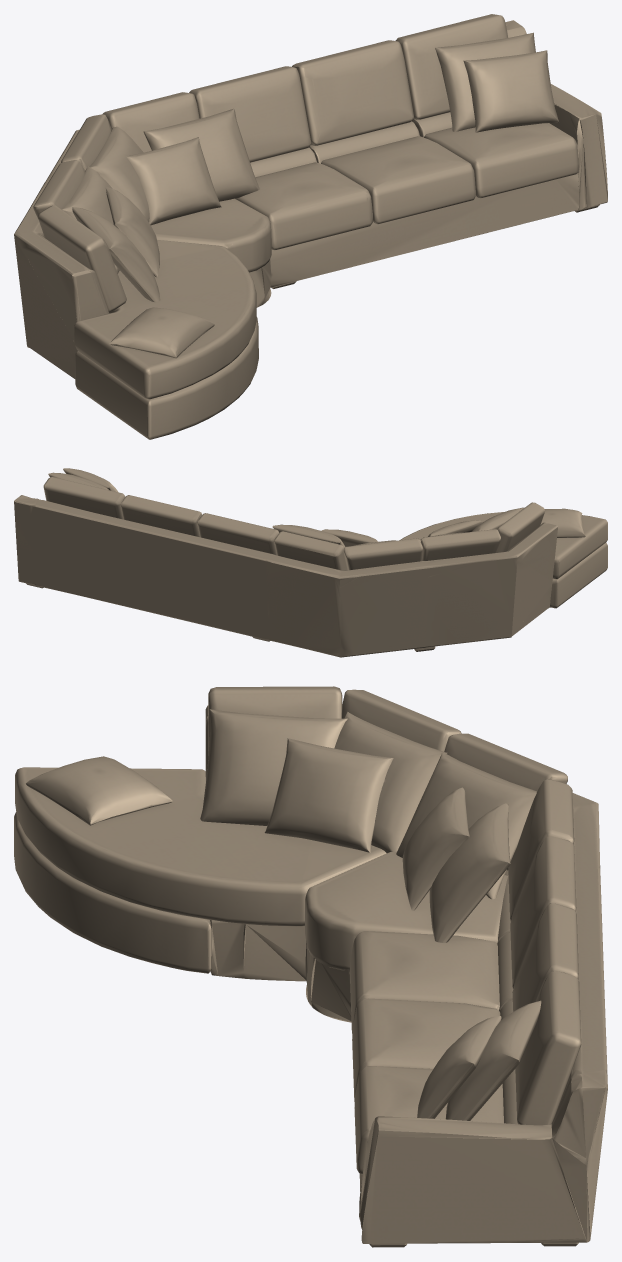
Rendered from raw_model.obj.
3 views of the same model, one above another, from view 1: azimuth 30°, elevation 25°; view 2: azimuth 150°, elevation 25°; view 3: azimuth 270°, elevation 25° (orthographic). The views are drawn at different scales.
Parts seen in each view (by area): view 1: solid_001; view 2: solid_001; view 3: solid_001.
Part boxes in pixels (x1,y1,x2,y2): solid_001: (14,14,607,439); solid_001: (14,468,607,657); solid_001: (14,686,607,1247).
Bounding box in the file's own units: 3.51 × 0.8343 × 2.28.
1 material, 1 textured.
